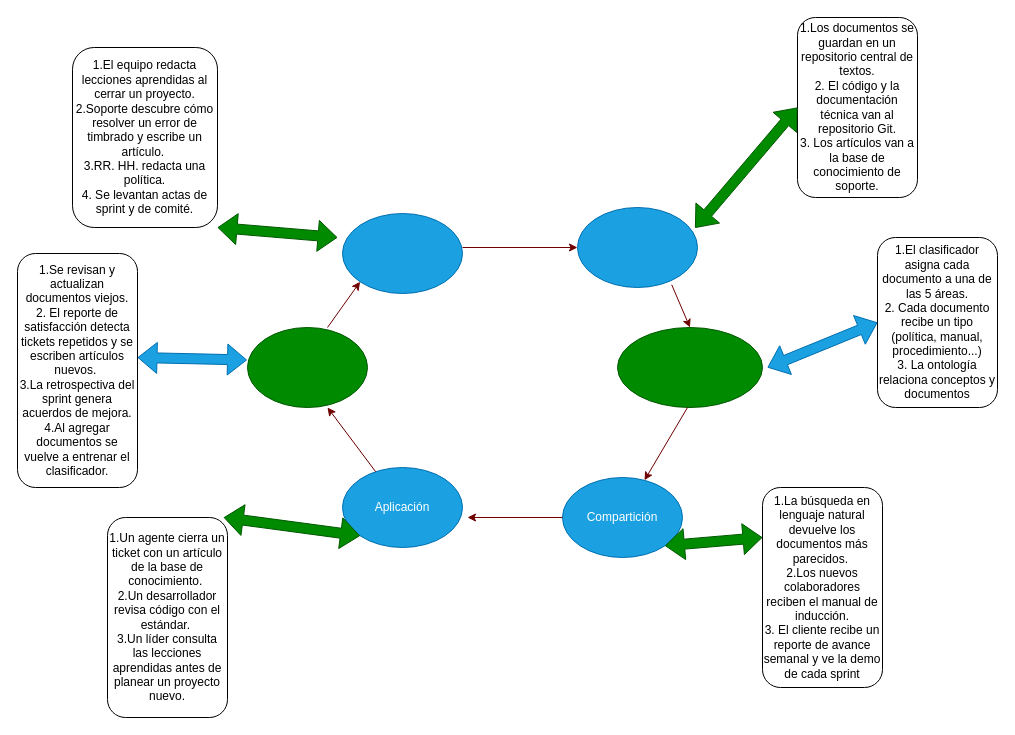
The diagram is 1015 pixels wide and 735 high, and some of its shapes have lost their labels. The box of each missing label's shape, as (x1, y1, x2, y2) in pixels:
Actualización: (246, 326, 368, 408)
Almacenamiento: (576, 206, 698, 288)
Creación/adquisición: (342, 212, 462, 294)
Organización/clasificación: (616, 326, 762, 408)
